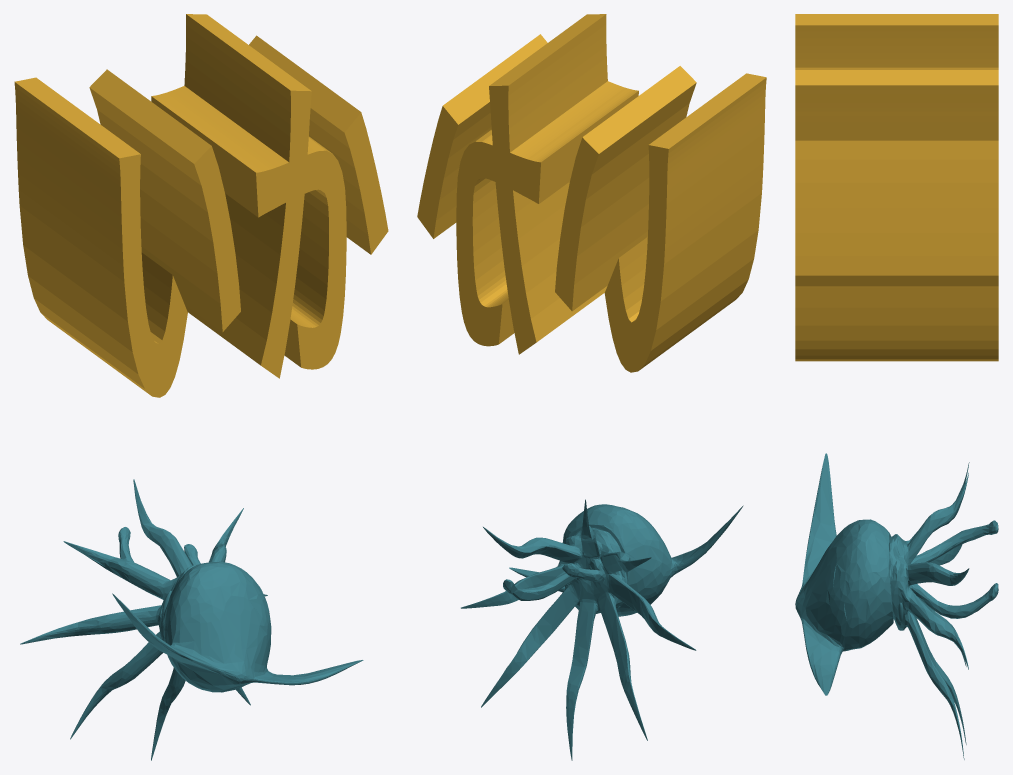
The model's file is tinker.obj.
3 views of the same model, side by side, from view 1: azimuth 30°, elevation 25°; view 2: azimuth 150°, elevation 25°; view 3: azimuth 270°, elevation 25° (orthographic). The views are drawn at different scales.
Visible parts, largest first — view 1: group_0_14789940, group_0_4228240; view 2: group_0_14789940, group_0_4228240; view 3: group_0_14789940, group_0_4228240.
Boxes of the visible parts, <box> form: group_0_14789940: <box>14,14,388,397</box>; group_0_4228240: <box>20,479,363,760</box>; group_0_14789940: <box>417,14,766,372</box>; group_0_4228240: <box>461,499,743,760</box>; group_0_14789940: <box>795,14,998,361</box>; group_0_4228240: <box>795,453,998,759</box>.
Bounding box in the file's own units: 31 × 76.06 × 20.
